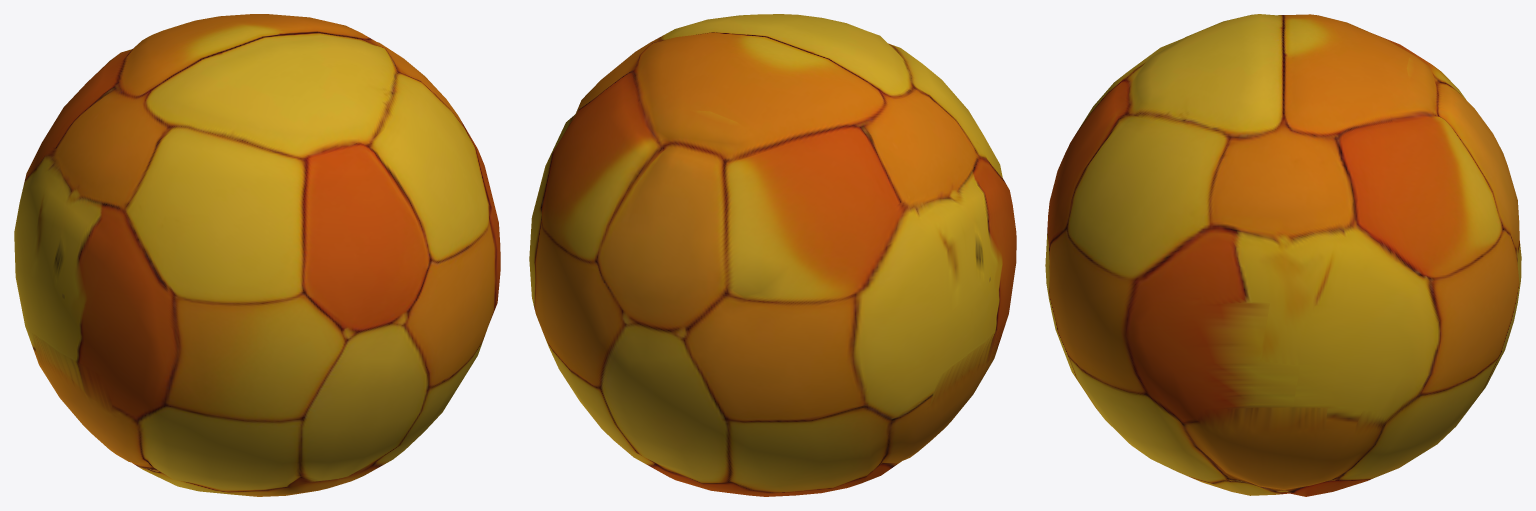
The model's file is 06-6493371-Vibrant-Soccer-Ball-model-pack.glb.
3 views of the same model, side by side, from view 1: azimuth 30°, elevation 25°; view 2: azimuth 150°, elevation 25°; view 3: azimuth 270°, elevation 25° (orthographic).
Visible parts, largest first — view 1: Retopo_neural_node_66871c30-a433-42e4-9f2c-24321f33d3b1; view 2: Retopo_neural_node_66871c30-a433-42e4-9f2c-24321f33d3b1; view 3: Retopo_neural_node_66871c30-a433-42e4-9f2c-24321f33d3b1.
Boxes of the visible parts, <box> form: Retopo_neural_node_66871c30-a433-42e4-9f2c-24321f33d3b1: <box>14,14,500,496</box>; Retopo_neural_node_66871c30-a433-42e4-9f2c-24321f33d3b1: <box>529,14,1016,496</box>; Retopo_neural_node_66871c30-a433-42e4-9f2c-24321f33d3b1: <box>1045,14,1521,496</box>.
Size of the model in its own units: 0.9447 by 0.9482 by 0.9505.
1 material, 1 textured.
